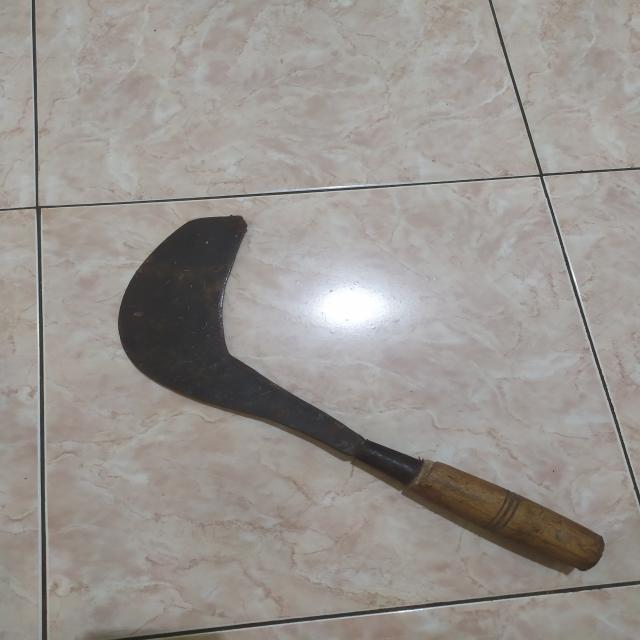Celurit: (122, 217, 607, 574)
